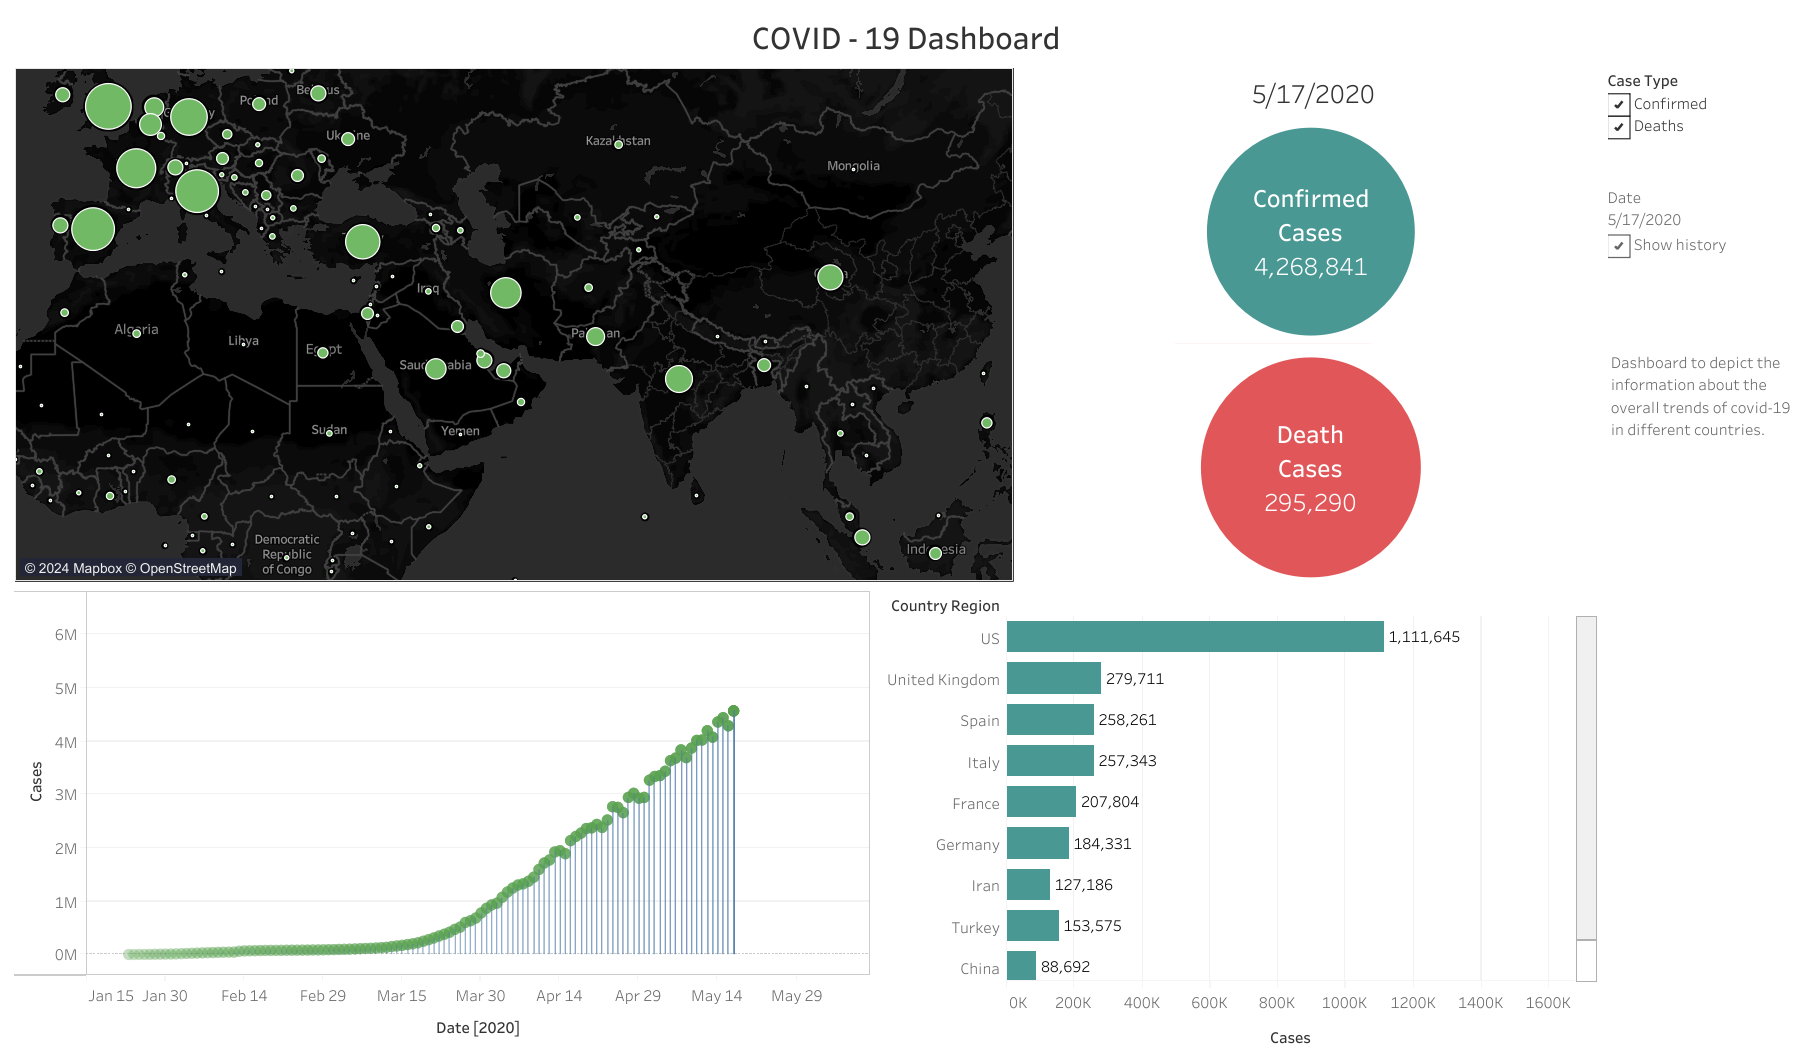

What the dashboard file says about the page in this screenshot:
{"tool":"tableau","page":{"name":"Dashboard 1","canvas":[1450,850],"ordinal":0},"visuals":[{"type":"title","box":[8,8,1434,42]},{"type":"worksheet","title":"Each Country Cases","mark":"Automatic","box":[8,50,807.2,418.7]},{"type":"worksheet","title":"Confirmed Cases","mark":"Pie","box":[815.2,50,466.8,228]},{"type":"filter","title":"Each Country Cases","param":"[federated.0eamhkg0g8s3z613bu6o11j3iwb1].[none:Case_Type:nk]","box":[1282,50,160,93]},{"type":"currpage","title":"Each Country Cases","box":[1282,143,160,133]},{"type":"text","box":[1282,276,160,80]},{"type":"worksheet","title":"Death Cases","mark":"Pie","box":[815.2,278,466.8,190.7]},{"type":"worksheet","title":"Case Trends","mark":"Automatic","rows":["Cases","Cases"],"cols":["Date"],"box":[8,468.7,693.5,373.3]},{"type":"worksheet","title":"Top 10 Countries","mark":"Automatic","rows":["Country_Region"],"cols":["Cases"],"box":[701.5,468.7,580.5,373.3]}]}

Visuals, with their boxes in screenshot pixels (x1, y1, x2, y2), scaled from the page's 1450x850 canvas onto the 1811x1061 screenshot:
title: 10:10:1801:62
"Each Country Cases" worksheet: 10:62:1018:585
"Confirmed Cases" worksheet (Pie marks): 1018:62:1601:347
"Each Country Cases" filter: 1601:62:1801:178
"Each Country Cases" currpage: 1601:178:1801:345
text: 1601:345:1801:444
"Death Cases" worksheet (Pie marks): 1018:347:1601:585
"Case Trends" worksheet: 10:585:876:1051
"Top 10 Countries" worksheet: 876:585:1601:1051
